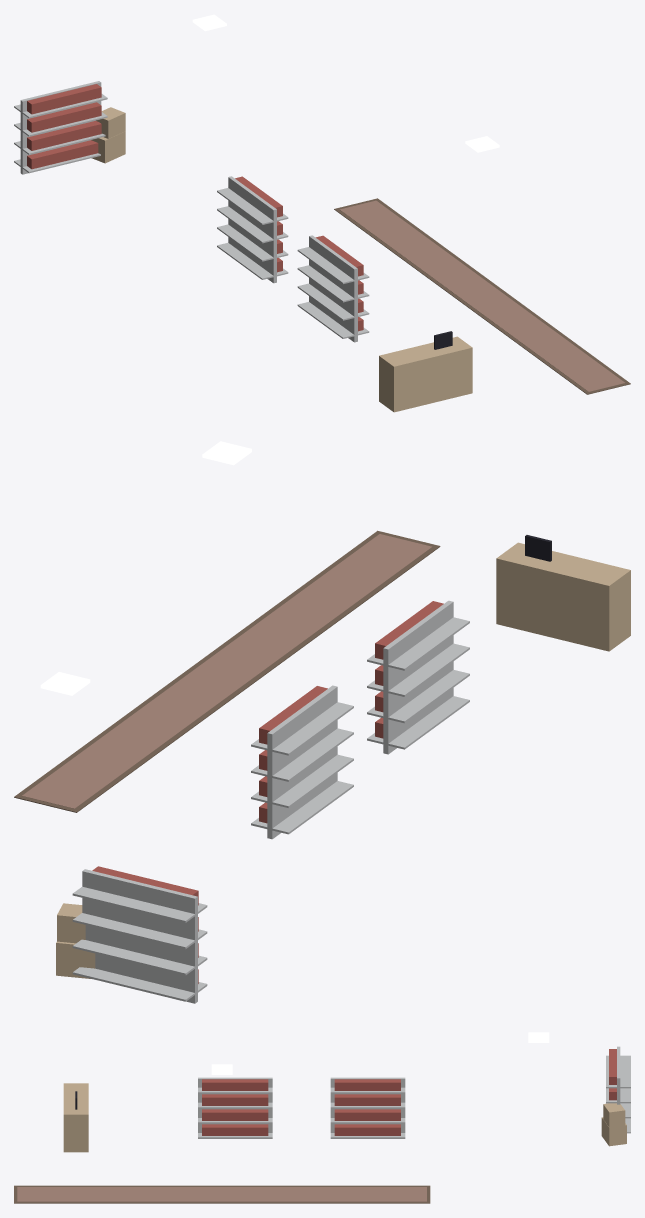
File: fine-s0.glb
The picture shows the model from 3 angles, top to bottom: view 1: azimuth 30°, elevation 25°; view 2: azimuth 150°, elevation 25°; view 3: azimuth 270°, elevation 25°; orthographic projection. The views are drawn at different scales.
Parts seen in each view (by area): view 1: soft-s0, shelving.000, shop-counter.000, shelf.001, shelf.000, cardboard-box.000; view 2: soft-s0, shelving.000, shop-counter.000, shelf.001, shelf.000, cardboard-box.000; view 3: soft-s0, shelf.000, shelf.001, shop-counter.000, shelving.000, cardboard-box.000.
Boxes of the visible parts, x1,y1,x2,y2 form: soft-s0: (334, 198, 630, 394); shelving.000: (14, 81, 107, 174); shop-counter.000: (379, 331, 472, 412); shelf.001: (297, 235, 369, 342); shelf.000: (217, 176, 288, 283); cardboard-box.000: (91, 107, 125, 163); soft-s0: (14, 530, 440, 812); shelving.000: (72, 866, 207, 1003); shop-counter.000: (496, 535, 630, 651); shelf.001: (367, 600, 469, 754); shelf.000: (251, 685, 353, 839); cardboard-box.000: (56, 903, 95, 978); soft-s0: (14, 1185, 430, 1203); shelf.000: (330, 1077, 405, 1138); shelf.001: (198, 1077, 272, 1138); shop-counter.000: (63, 1083, 88, 1152); shelving.000: (606, 1046, 630, 1133); cardboard-box.000: (601, 1103, 626, 1146).
Bounding box in the file's own units: 5.53 × 3.36 × 14.88.
